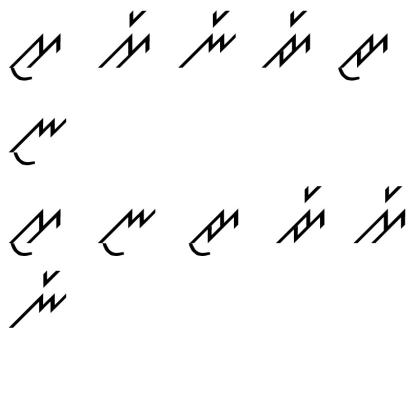jar: (274, 182, 330, 248), (260, 8, 316, 72)
jaw: (332, 28, 394, 84), (186, 202, 242, 258)
nyar: (8, 268, 70, 331), (176, 9, 239, 70)
nyaw: (95, 196, 158, 258), (6, 111, 71, 166)
sar: (94, 6, 157, 70), (353, 183, 409, 250)
saw: (5, 26, 64, 82), (10, 203, 64, 258)
